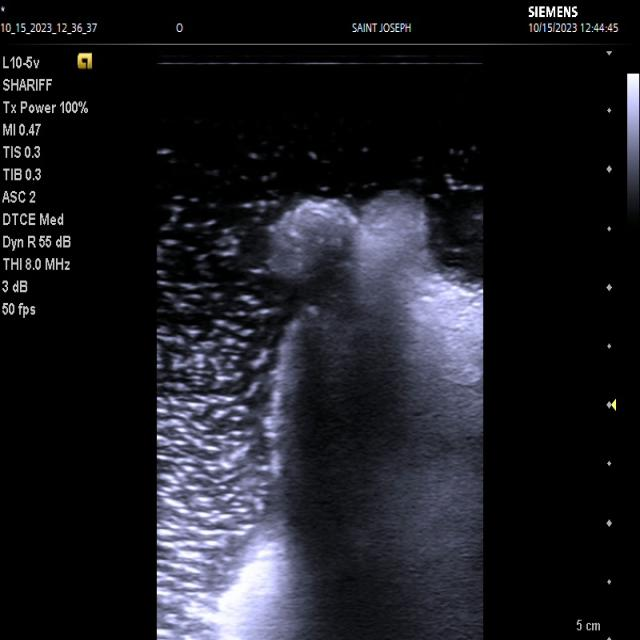tissue: (218, 192, 482, 640)
